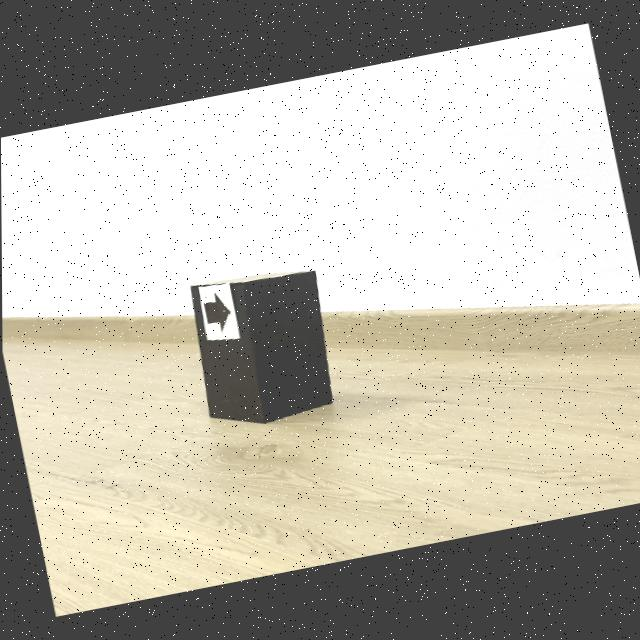RIGHT: (204, 293, 229, 332)
